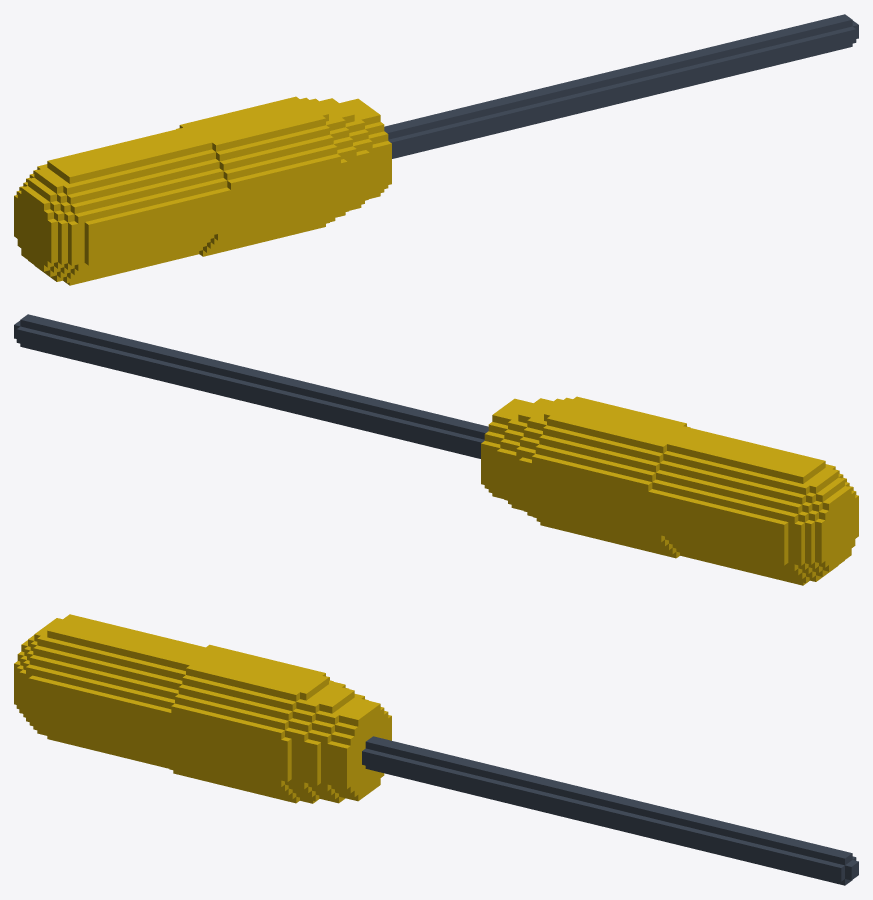
The model's file is screwdriver.glb.
3 views of the same model, one above another, from view 1: azimuth 30°, elevation 25°; view 2: azimuth 150°, elevation 25°; view 3: azimuth 330°, elevation 25° (orthographic).
Visible parts, largest first — view 1: screwdriver:compound; view 2: screwdriver:compound; view 3: screwdriver:compound.
Boxes of the visible parts, <box> form: screwdriver:compound: <box>14,14,858,285</box>; screwdriver:compound: <box>14,314,858,585</box>; screwdriver:compound: <box>14,614,858,885</box>.
Size of the model in its own units: 0.254 by 0.032 by 0.032.
